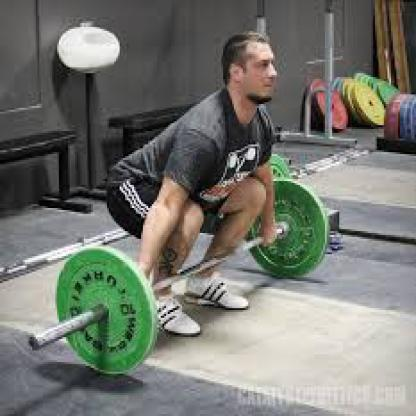Barbell: (46, 240, 166, 383)
